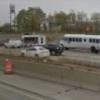buses: (60, 32, 100, 55)
